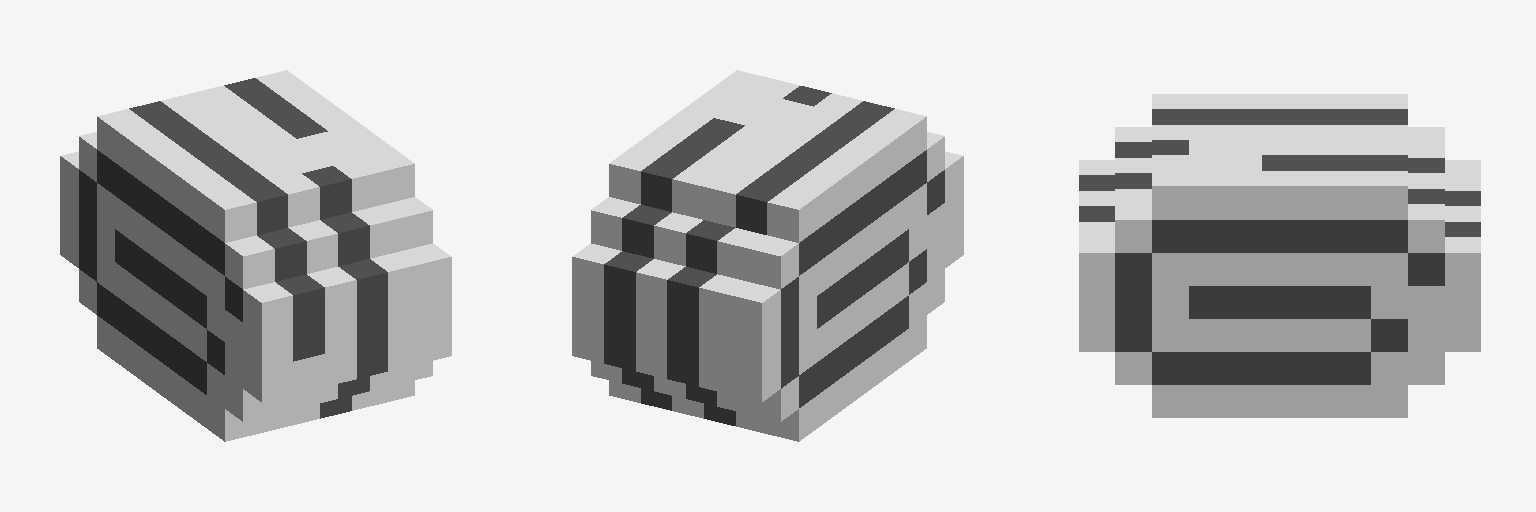
3 views of the same model, side by side, from view 1: azimuth 30°, elevation 25°; view 2: azimuth 150°, elevation 25°; view 3: azimuth 270°, elevation 25° (orthographic).
Parts seen in each view (by area): view 1: patas_correr; view 2: patas_correr; view 3: patas_correr.
Boxes of the visible parts, <box> form: patas_correr: <box>60,70,451,441</box>; patas_correr: <box>572,70,963,441</box>; patas_correr: <box>1079,94,1480,417</box>.
Bounding box in the file's own units: 0.6 × 0.7 × 1.1.
1 materials, 1 textured.